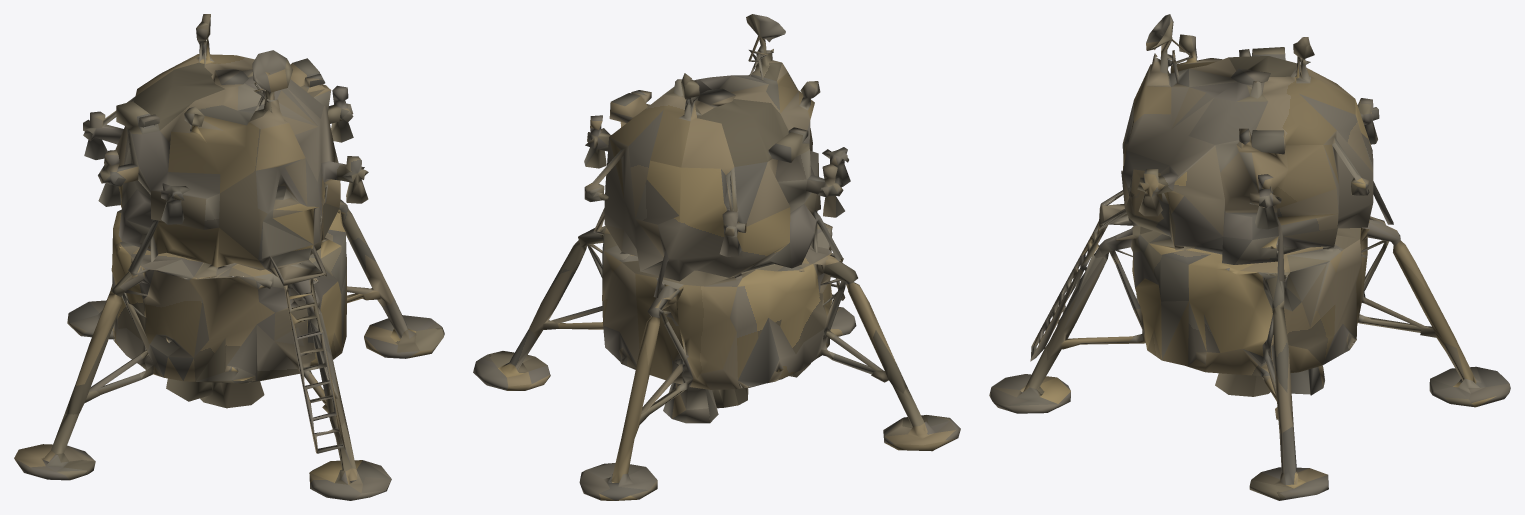
The model's file is lander.glb.
The picture shows the model from 3 angles, left to right: view 1: azimuth 30°, elevation 25°; view 2: azimuth 150°, elevation 25°; view 3: azimuth 270°, elevation 25°; orthographic projection. The views are drawn at different scales.
Visible parts, largest first — view 1: LO.001; view 2: LO.001; view 3: LO.001.
Boxes of the visible parts, bbox=[...] form: LO.001: bbox=[14, 14, 444, 500]; LO.001: bbox=[473, 14, 960, 500]; LO.001: bbox=[989, 14, 1510, 500].
Bounding box in the file's own units: 9.97 × 7.95 × 9.99.
Materials: 1 (1 with a texture image).
